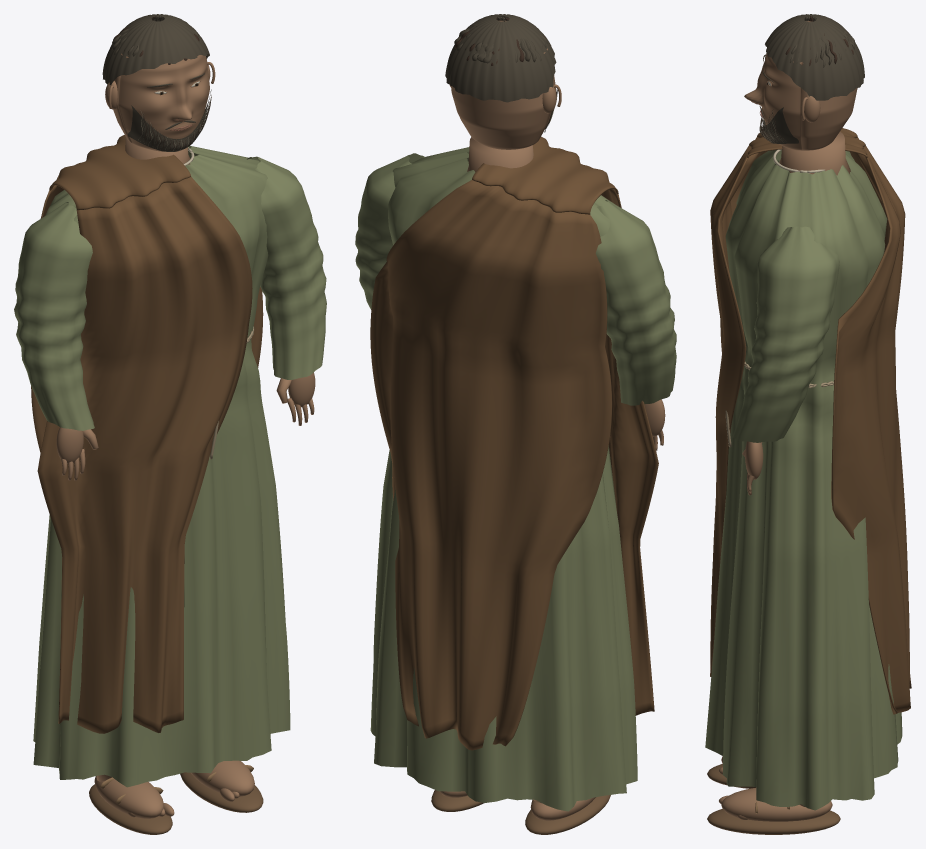
The model's file is SM_Simon.fbx.
3 views of the same model, side by side, from view 1: azimuth 30°, elevation 25°; view 2: azimuth 150°, elevation 25°; view 3: azimuth 270°, elevation 25° (orthographic). The views are drawn at different scales.
Visible parts, largest first — view 1: SM_Simon; view 2: SM_Simon; view 3: SM_Simon.
Boxes of the visible parts, <box> form: SM_Simon: <box>14,14,326,834</box>; SM_Simon: <box>355,14,676,834</box>; SM_Simon: <box>705,14,911,834</box>.
Size of the model in its own units: 72.35 by 42.16 by 177.
